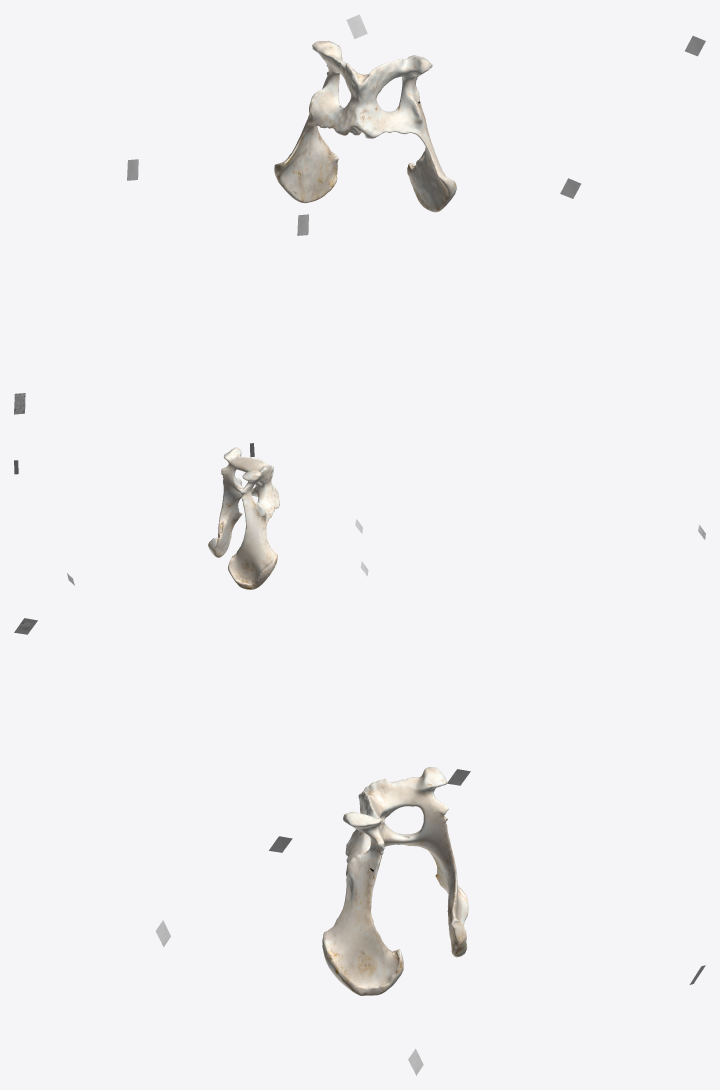
The model's file is sacred-bone-2.glb.
3 renders of one model, top to bottom at view 1: azimuth 30°, elevation 25°; view 2: azimuth 150°, elevation 25°; view 3: azimuth 270°, elevation 25°, orthographic. The views are drawn at different scales.
Parts seen in each view (by area): view 1: sacrum-bon; view 2: sacrum-bon; view 3: sacrum-bon.
Part boxes in pixels (x1,y1,x2,y2): sacrum-bon: (274,41,456,212); sacrum-bon: (208,447,279,589); sacrum-bon: (322,767,468,995).
Size of the model in its own units: 32.04 by 5.94 by 20.2.
Materials: 4 (2 with a texture image).
